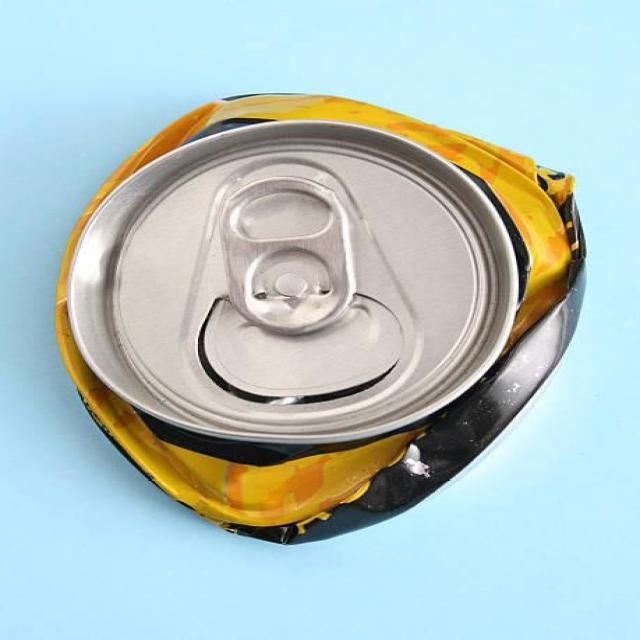can: (59, 89, 585, 548)
pop tab: (223, 179, 357, 338)
